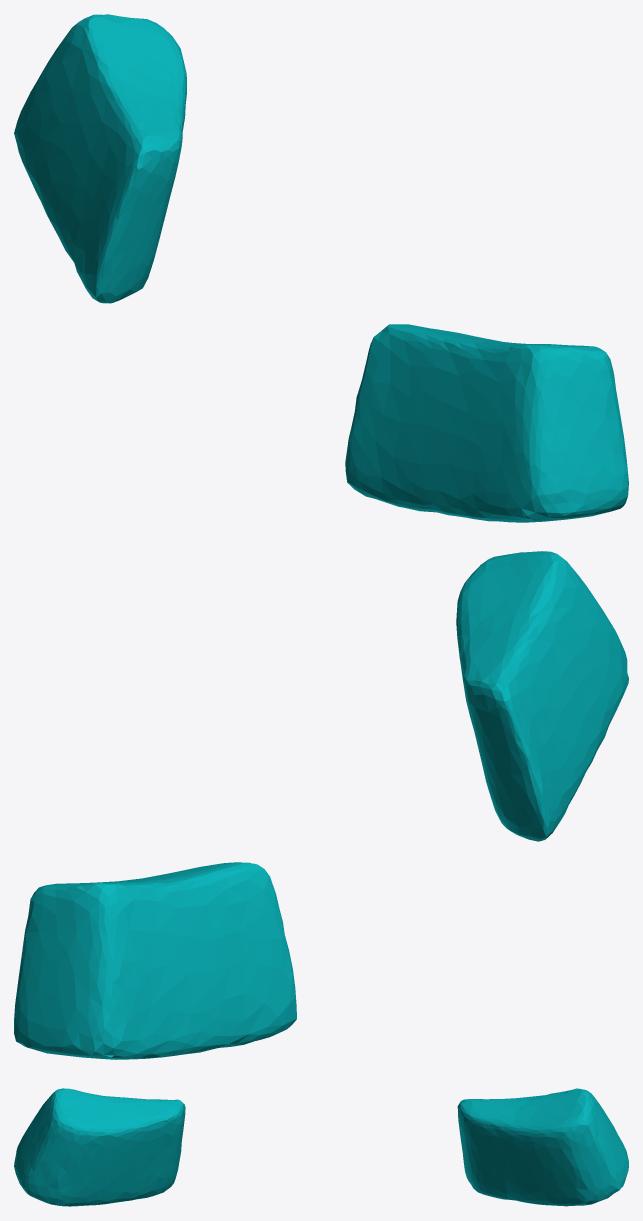
The picture shows the model from 3 angles, top to bottom: view 1: azimuth 30°, elevation 25°; view 2: azimuth 150°, elevation 25°; view 3: azimuth 270°, elevation 25°; orthographic projection. The views are drawn at different scales.
Parts seen in each view (by area): view 1: 312782546.obj; view 2: 312782546.obj; view 3: 312782546.obj.
Part boxes in pixels (x1,y1,x2,y2): 312782546.obj: [14, 14, 628, 522]; 312782546.obj: [14, 551, 628, 1059]; 312782546.obj: [14, 1088, 628, 1206].
Bounding box in the file's own units: 1030 × 1158 × 5537.
